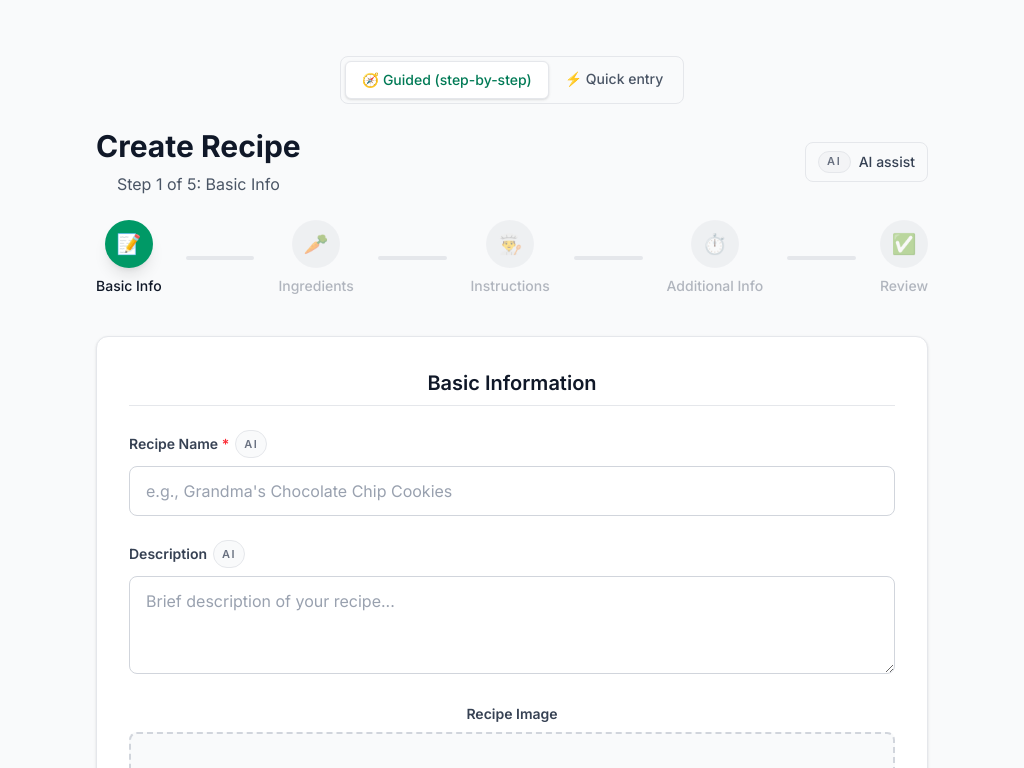
CreateRecipe - Multi-Step Wizard › Step 3: Instructions › should add new instruction field when Add Step button is clicked
This screenshot has width=1024, height=768.
In the field with placeholder "e.g., Grandma's Chocolate Chip Cookies": (512, 491) [129,466,895,516], type "Test Recipe"
(page scrolled)
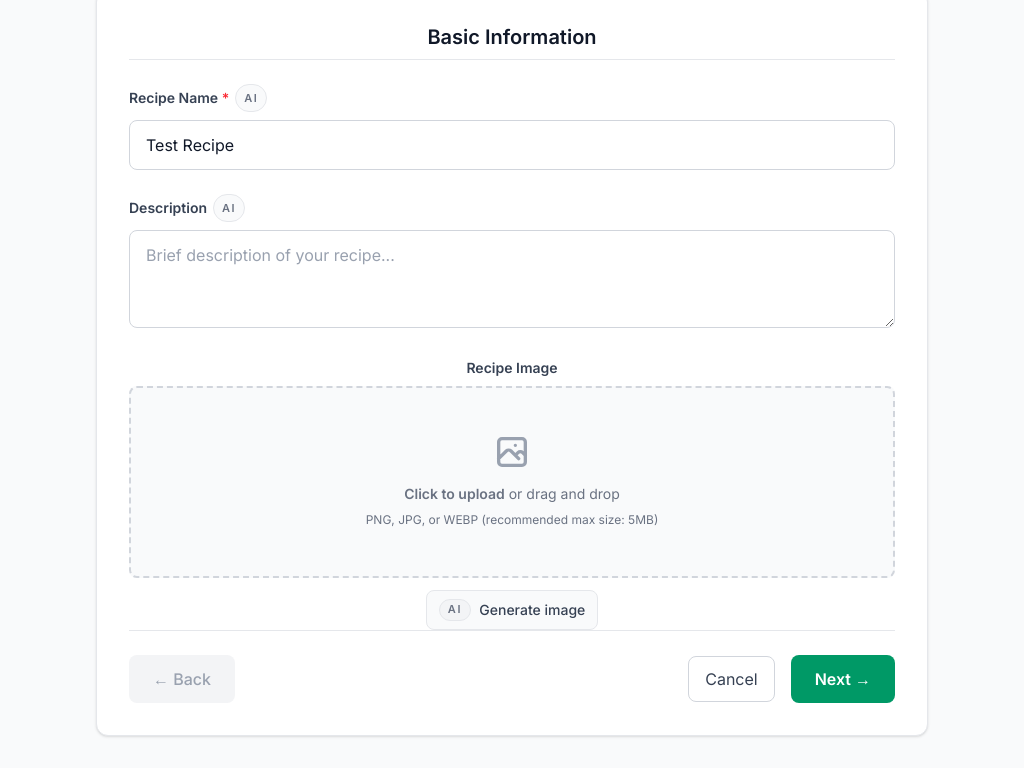
Click the button "Next →": (843, 679) [791,655,895,703]
(page scrolled)
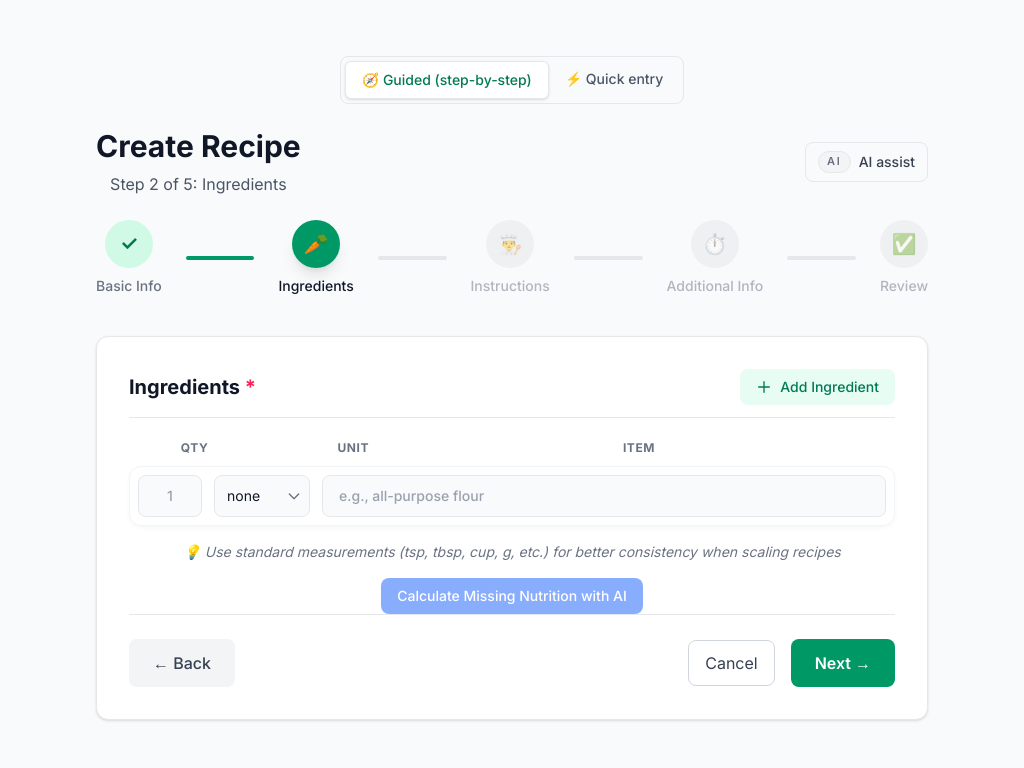
In the field with placeholder "e.g., all-purpose flour": (604, 496) [322,475,886,517], type "flour"
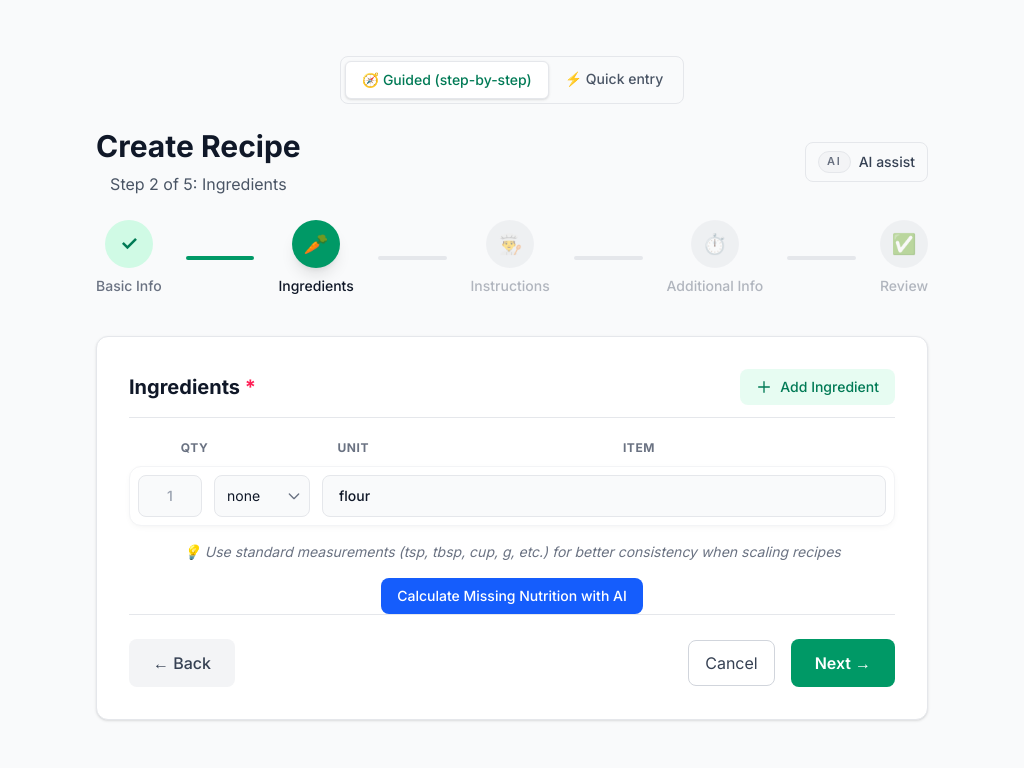
Click the button with aria-label "Go to step 3: Instructions": (510, 258) [470,220,550,296]
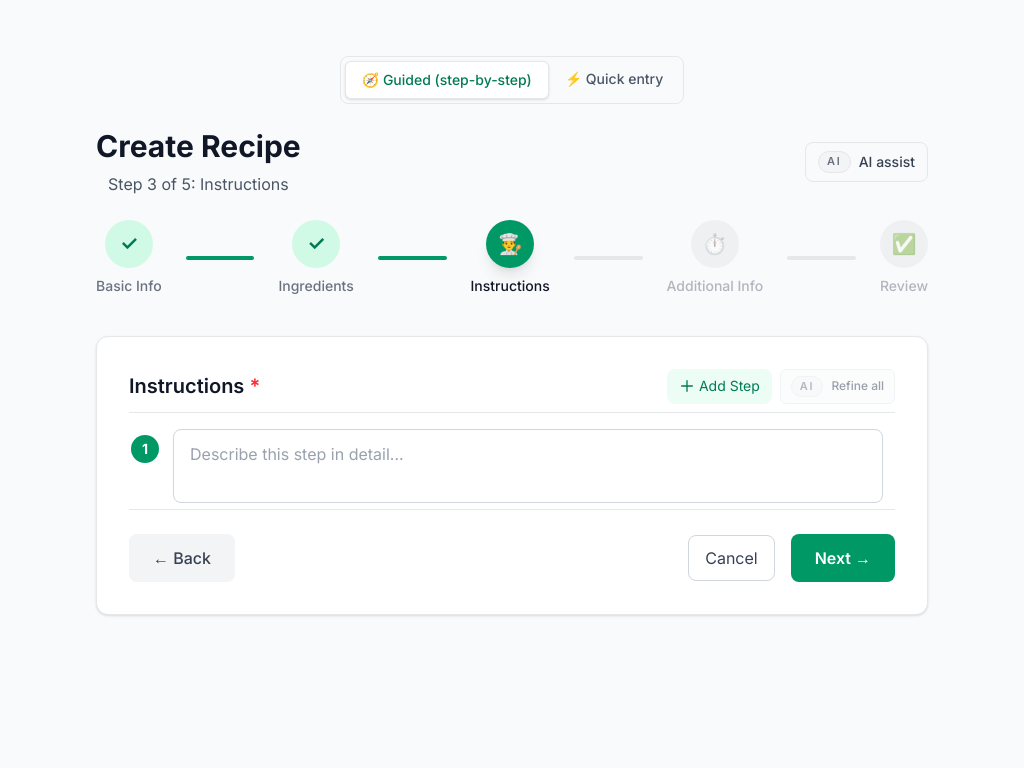
Click the button "Add Step": (719, 386) [667,369,772,404]
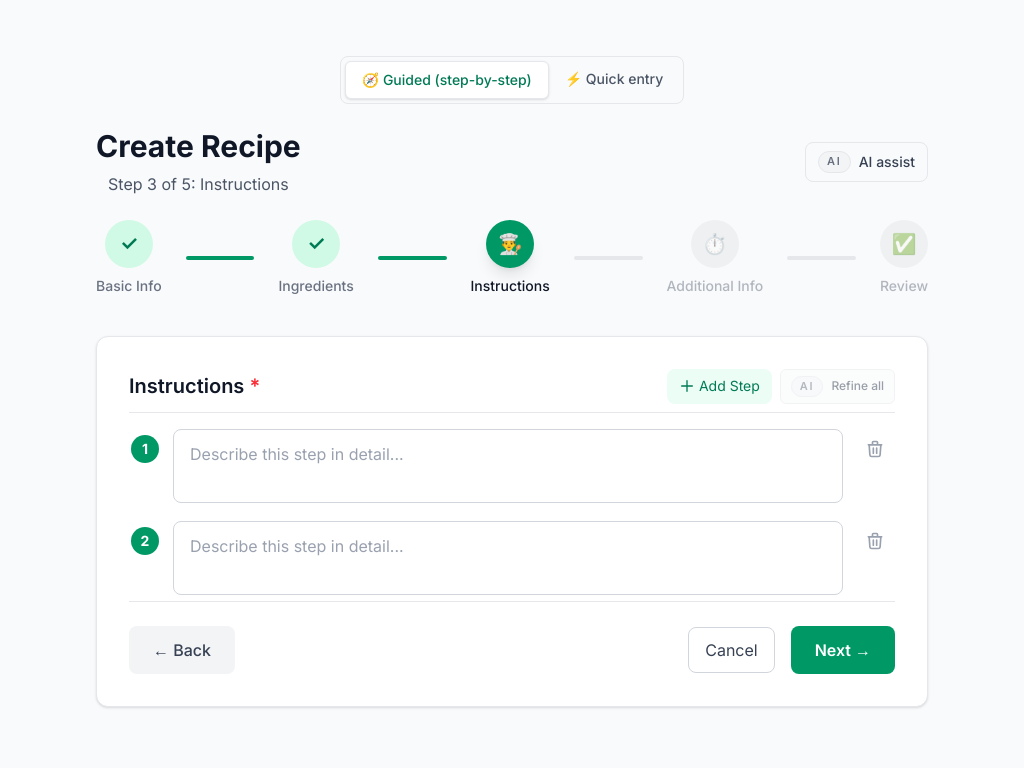
Expected: the number of text boxes with placeholder "Describe this step in detail..." is 2, [173,429,843,503]; [173,521,843,595]
